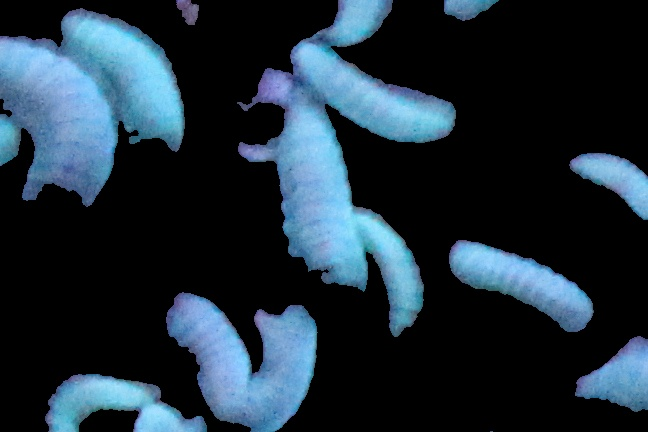larvae: (271, 95, 386, 301), (1, 44, 126, 218), (297, 46, 472, 149), (71, 12, 177, 149), (446, 232, 591, 332), (154, 289, 243, 412), (240, 298, 317, 432), (360, 203, 419, 352), (572, 140, 648, 221), (302, 1, 410, 56), (39, 375, 162, 418)
